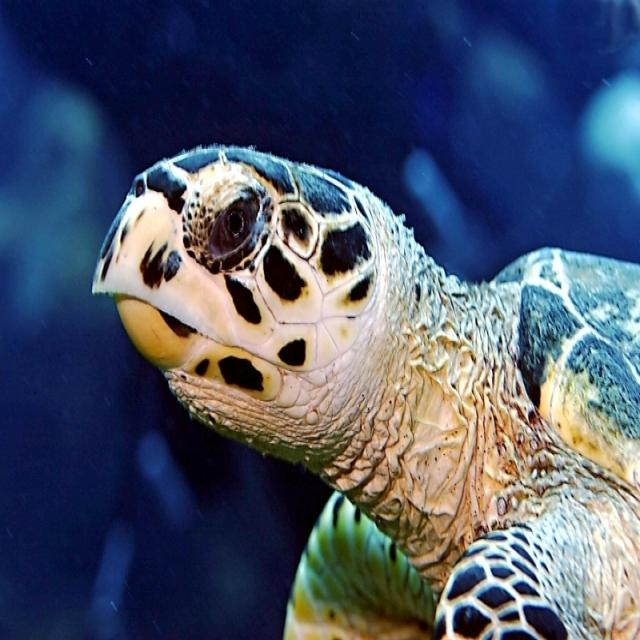sea turtle: (191, 246, 639, 640), (89, 119, 461, 506)
